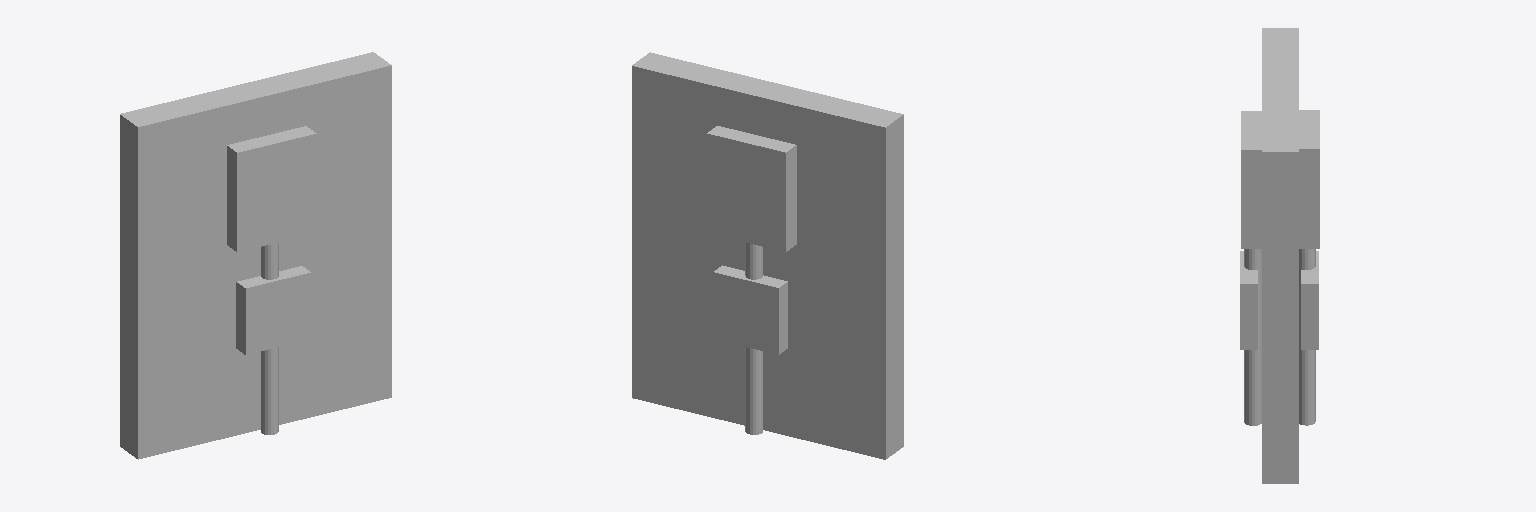
File: medidorluz-1.obj
3 renders of one model, left to right at view 1: azimuth 30°, elevation 25°; view 2: azimuth 150°, elevation 25°; view 3: azimuth 270°, elevation 25°, orthographic.
Parts seen in each view (by area): view 1: Box001, Box004, Box005, Tube001; view 2: Box001, Box003, Box006, Tube002; view 3: Box001, Box003, Box004, Tube001, Tube002, Box005, Box006.
Part boxes in pixels (x1,y1,x2,y2): Box001: (120,52,391,459); Box004: (227,126,316,252); Box005: (236,266,310,354); Tube001: (261,243,278,434); Box001: (632,52,903,459); Box003: (707,126,796,251); Box006: (713,265,787,354); Tube002: (745,243,762,434); Box001: (1262,28,1298,483); Box003: (1299,110,1319,248); Box004: (1241,111,1261,248); Tube001: (1244,249,1261,425); Tube002: (1299,249,1315,425); Box005: (1240,251,1257,349); Box006: (1301,251,1318,349).
Size of the model in its own units: 80 by 100 by 21.93.